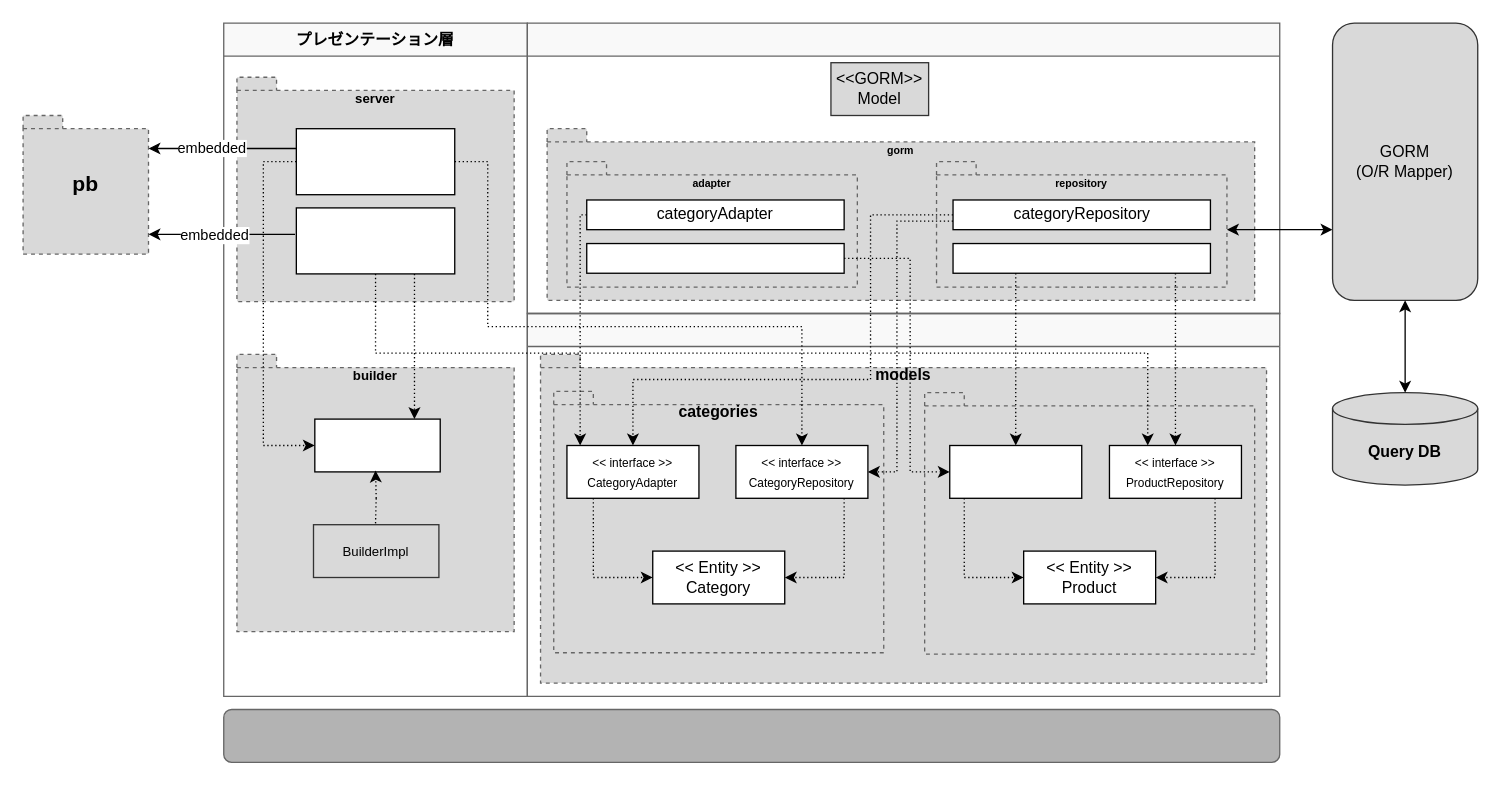
Image size: 1501x785. Some labels were removed from this diagram. Each missing label, with the box of its shape:
<< interface >> Builder: (314, 418, 440, 472)
<< interface >> ProductAdapter: (948, 444, 1082, 498)
categoryServer: (295, 127, 455, 195)
fx(DI Container): (222, 708, 1280, 762)
productAdapter: (585, 242, 844, 273)
productRepository: (952, 242, 1210, 273)
products: (923, 391, 1255, 654)
productServer: (295, 207, 455, 274)
インフラストラクチャ層: (526, 22, 1280, 314)
ドメイン層: (526, 312, 1280, 696)
